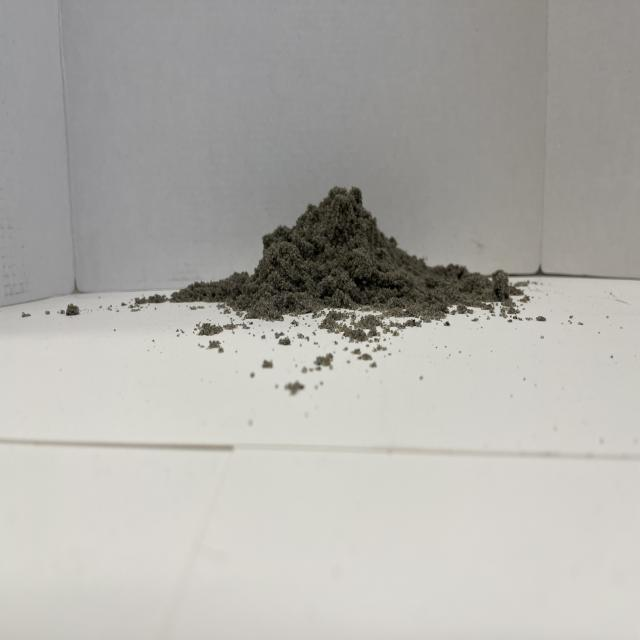sand: (158, 175, 494, 322)
